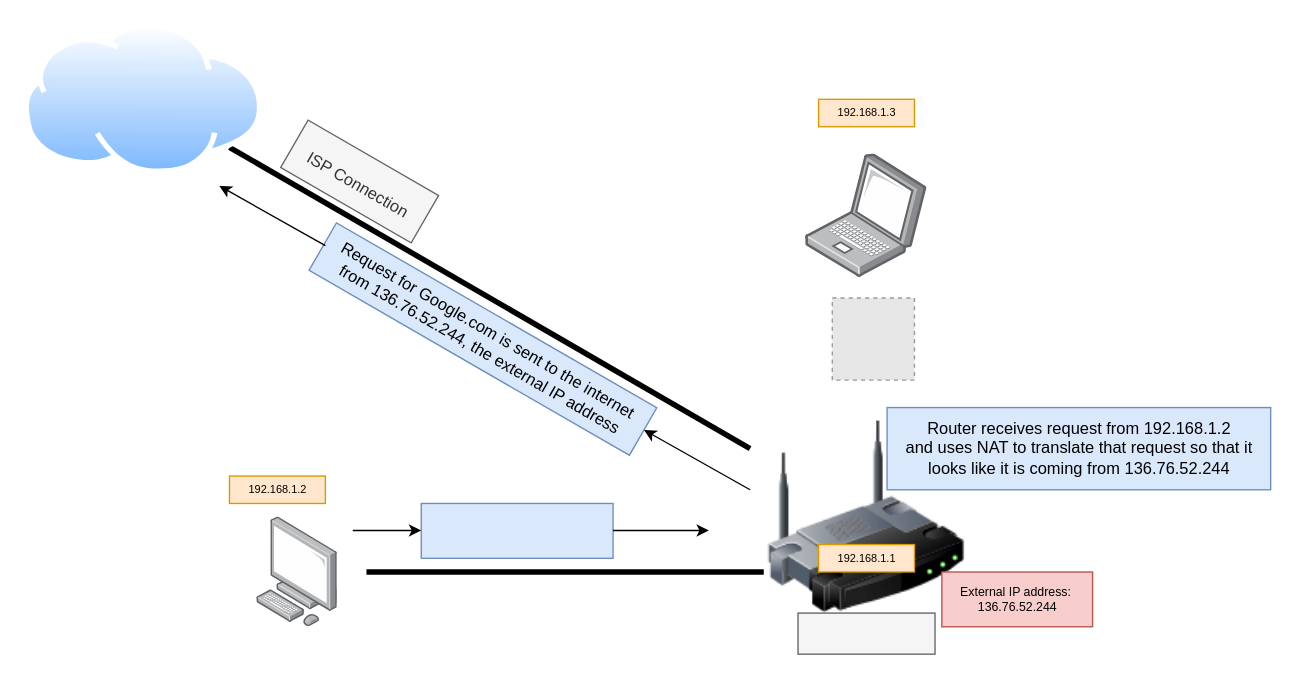
Some shapes in this 1295 by 678 pixel diagram are drawn without their labels. Grey dashed boxes stand in for pictures. Each missing label, with the centre of its shape:
"Internet" goes at point 142,98.
"Request Google.com from 192.168.1.2" goes at point 516,530.
"TechBytes-Home" goes at point 866,633.
